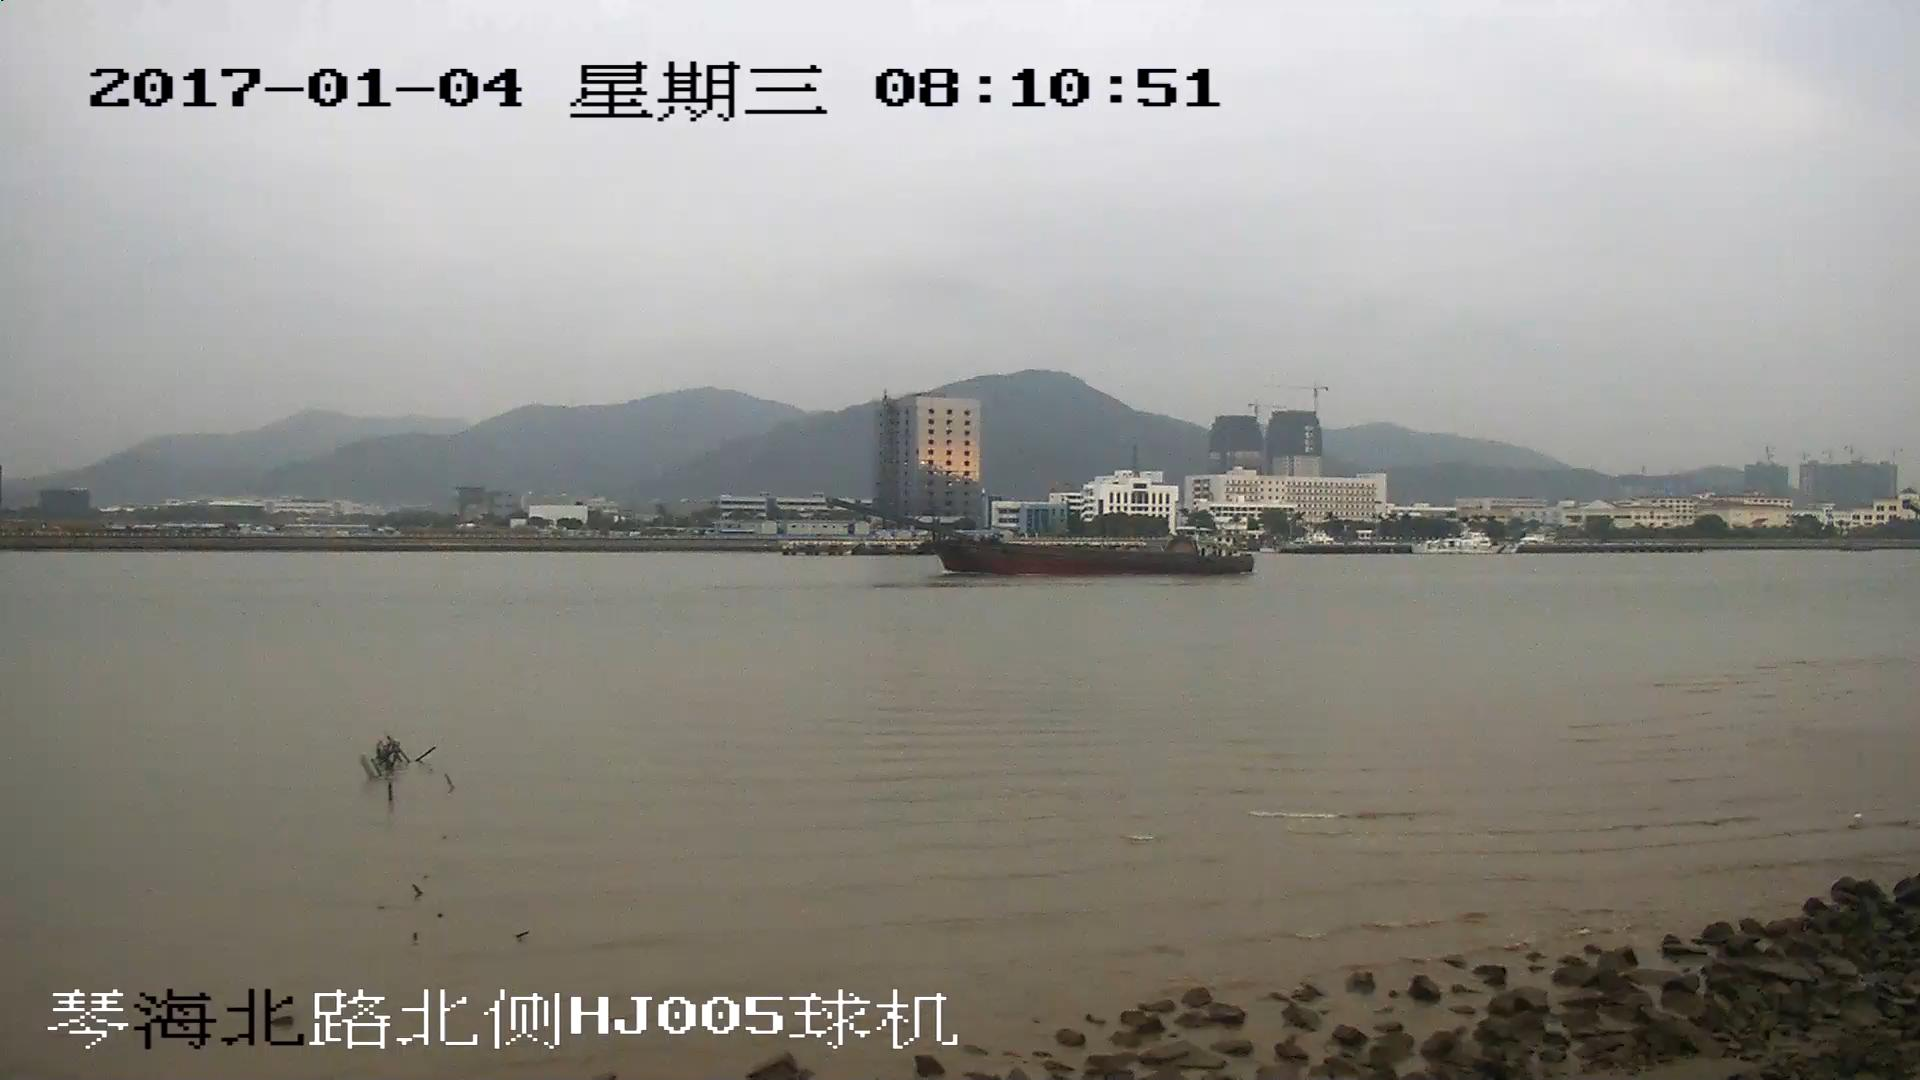bulk cargo carrier: (831, 500, 1256, 575)
